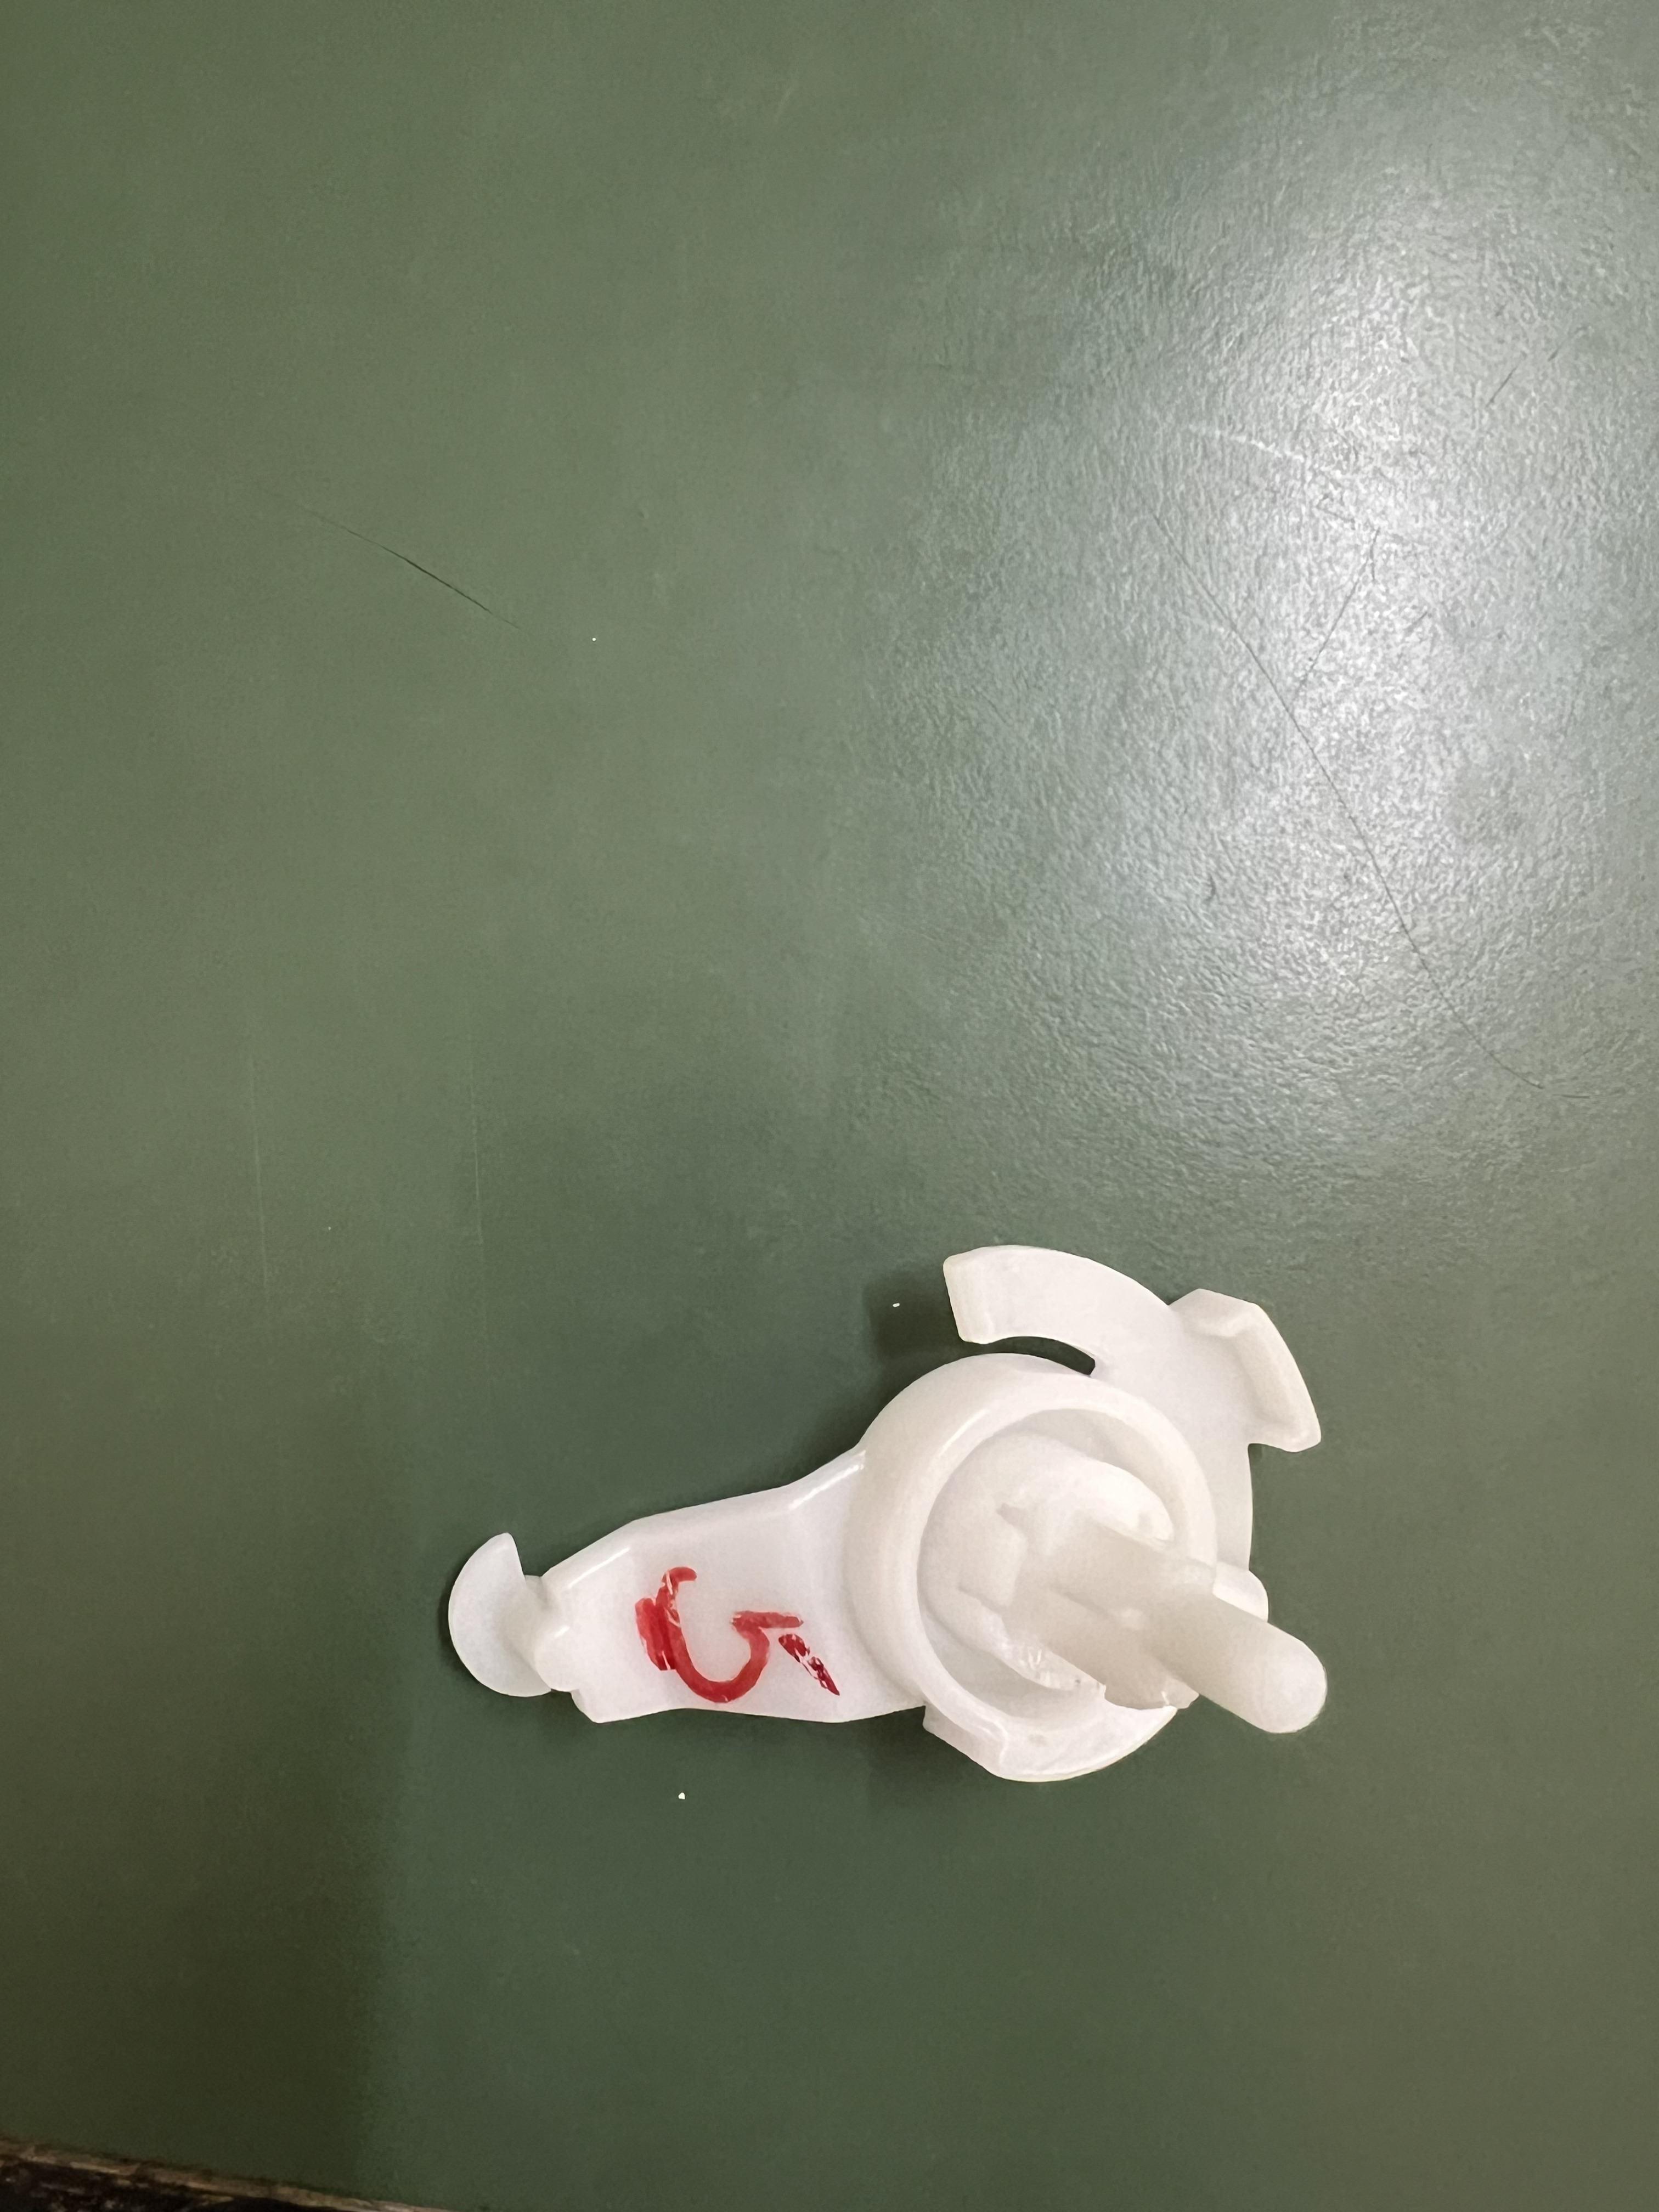drain_lever: (415, 1216, 1333, 1757)
